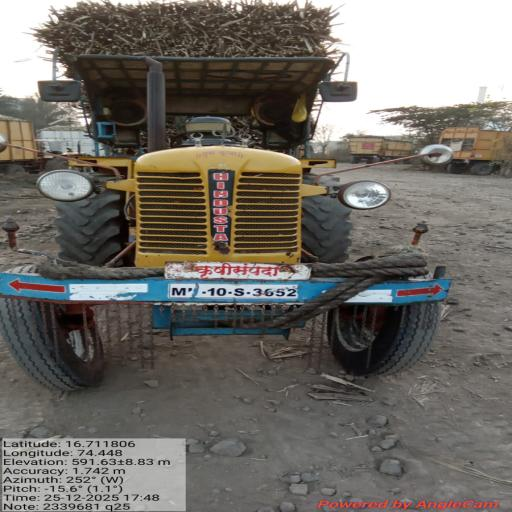number_plate: (167, 280, 299, 302)
